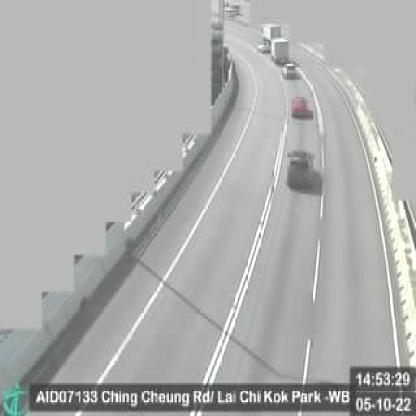Car: (286, 147, 312, 189), (287, 93, 308, 119), (282, 62, 296, 80)
Truck: (269, 36, 287, 59)
